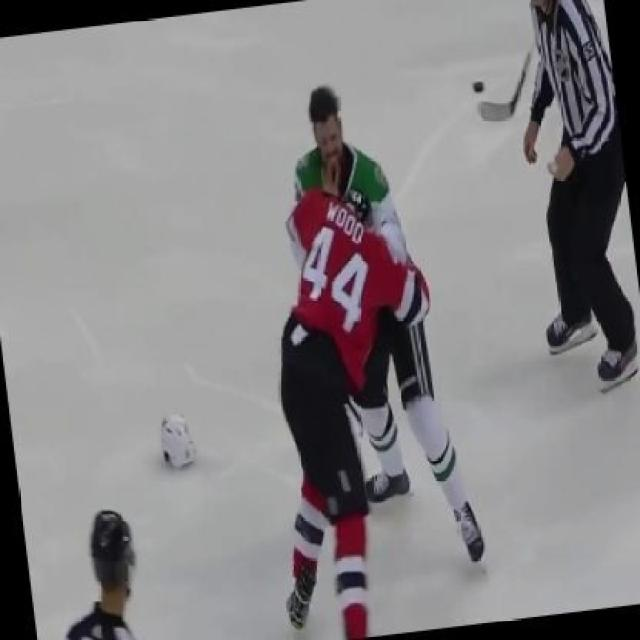fight: (260, 82, 488, 638)
non-fight: (512, 0, 638, 405)
